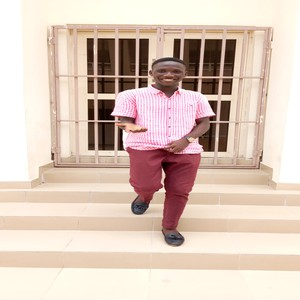Fulokoja_male_student: (119, 58, 190, 245)
